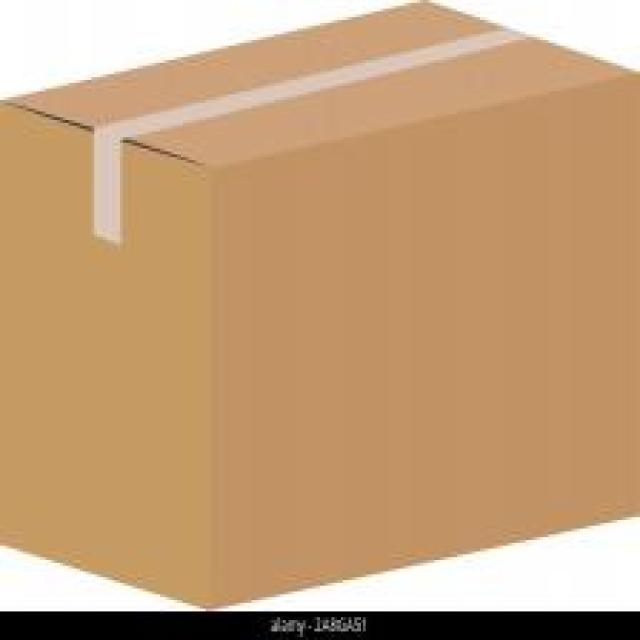box: (0, 0, 640, 612)
